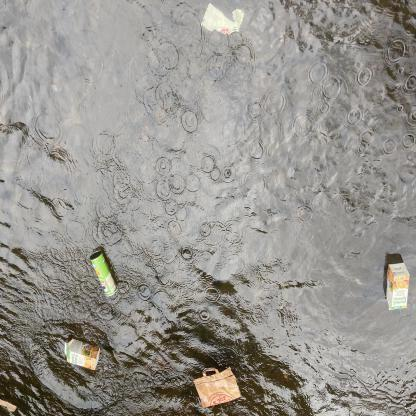Metal: (88, 246, 122, 301)
Plastic: (196, 0, 247, 40)
Trash: (190, 361, 247, 409), (0, 396, 18, 413)
